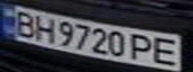0: (106, 29, 130, 58)
2: (90, 25, 109, 56)
7: (69, 21, 93, 52)
9: (54, 18, 75, 47)
B: (9, 8, 39, 38)
E: (148, 35, 184, 66)
H: (30, 14, 60, 43)
P: (127, 32, 157, 62)
